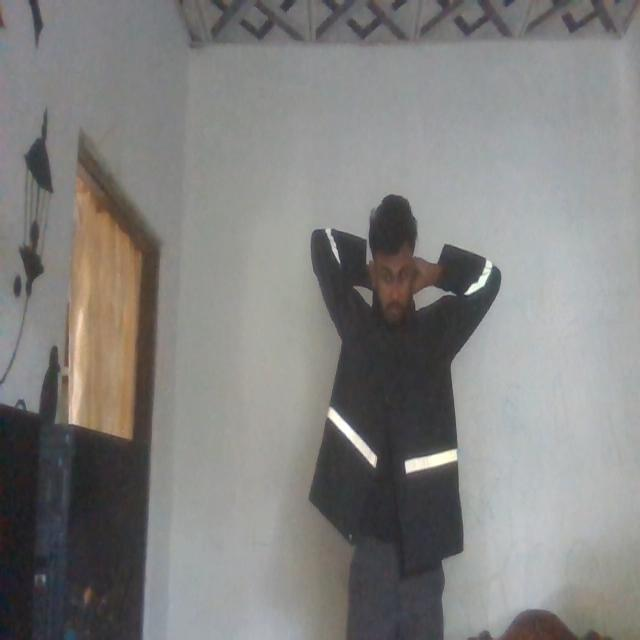Jacket_Wearer: (308, 221, 502, 570)
Person: (311, 184, 501, 640)
